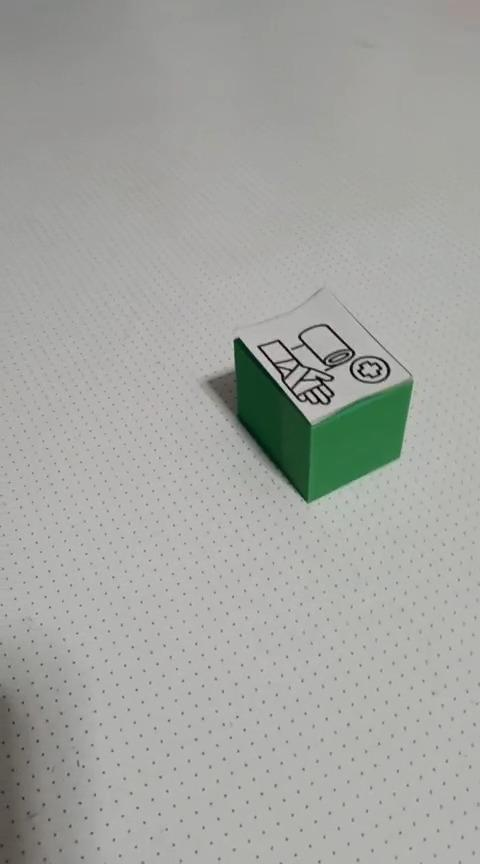Bandages: (231, 285, 413, 503)
